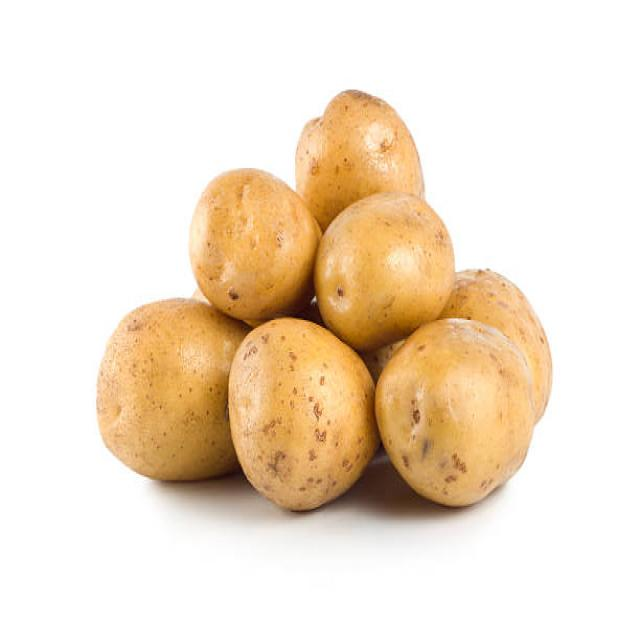Potato: (374, 314, 534, 509), (224, 314, 353, 516), (93, 291, 215, 483), (315, 188, 457, 324), (187, 162, 304, 320), (291, 86, 429, 196)
